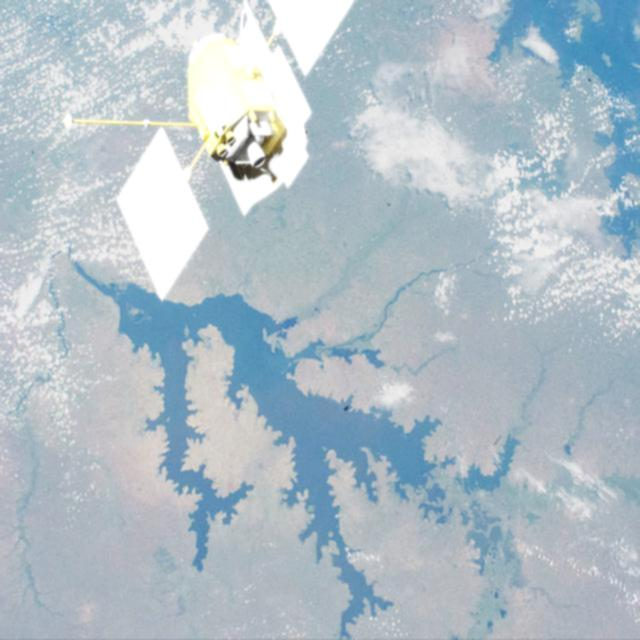satellite: (78, 0, 372, 333)
